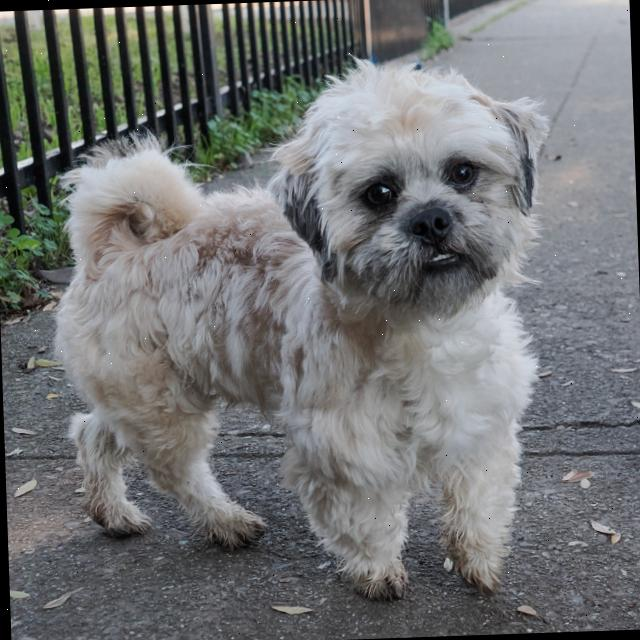shih_tzu_dog: (262, 34, 564, 338)
